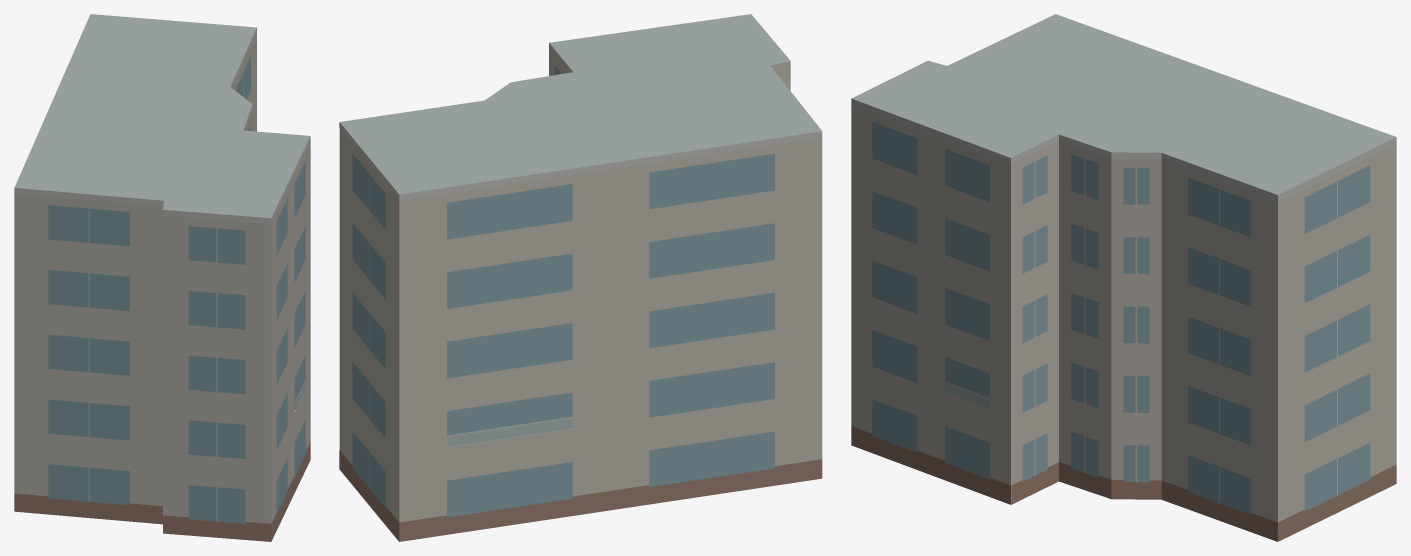
Rendered from survey-upis-33044805.glb.
The picture shows the model from 3 angles, left to right: view 1: azimuth 30°, elevation 25°; view 2: azimuth 150°, elevation 25°; view 3: azimuth 270°, elevation 25°; orthographic projection. The views are drawn at different scales.
Visible parts, largest first — view 1: survey-upis-33044805.tmp; view 2: survey-upis-33044805.tmp; view 3: survey-upis-33044805.tmp.
Boxes of the visible parts, left/top/right/bottom form: survey-upis-33044805.tmp: left=14, top=14, right=310, bottom=541; survey-upis-33044805.tmp: left=339, top=14, right=822, bottom=541; survey-upis-33044805.tmp: left=851, top=14, right=1396, bottom=541.
Bounding box in the file's own units: 15.48 × 13.82 × 19.69.
